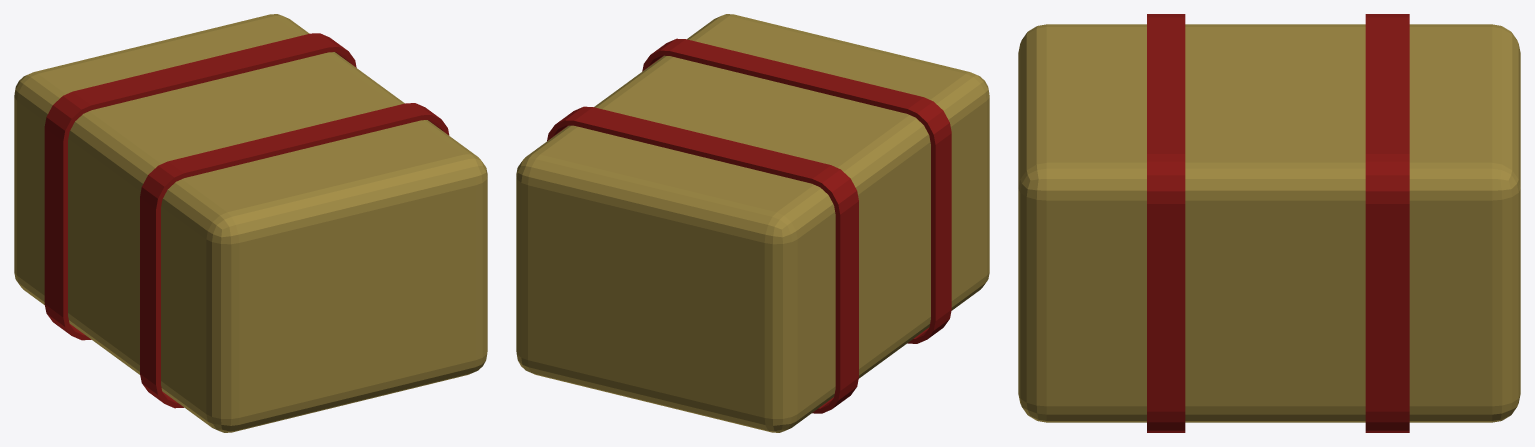
Rendered from Hay.fbx.
3 views of the same model, side by side, from view 1: azimuth 30°, elevation 25°; view 2: azimuth 150°, elevation 25°; view 3: azimuth 270°, elevation 25° (orthographic). The views are drawn at different scales.
Parts seen in each view (by area): view 1: Hay; view 2: Hay; view 3: Hay.
Boxes of the visible parts, x1,y1,x2,y2 form: Hay: (14, 14, 487, 432); Hay: (516, 14, 989, 432); Hay: (1018, 14, 1520, 432).
Size of the model in its own units: 104 by 79.24 by 131.
